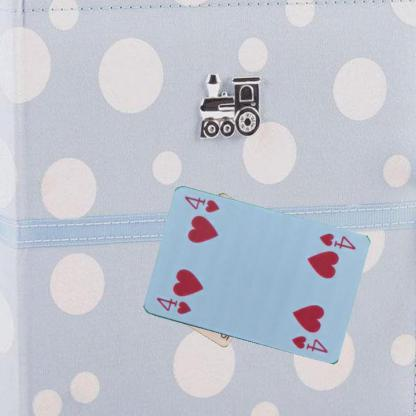4h: (316, 230, 357, 252), (153, 295, 193, 316)
